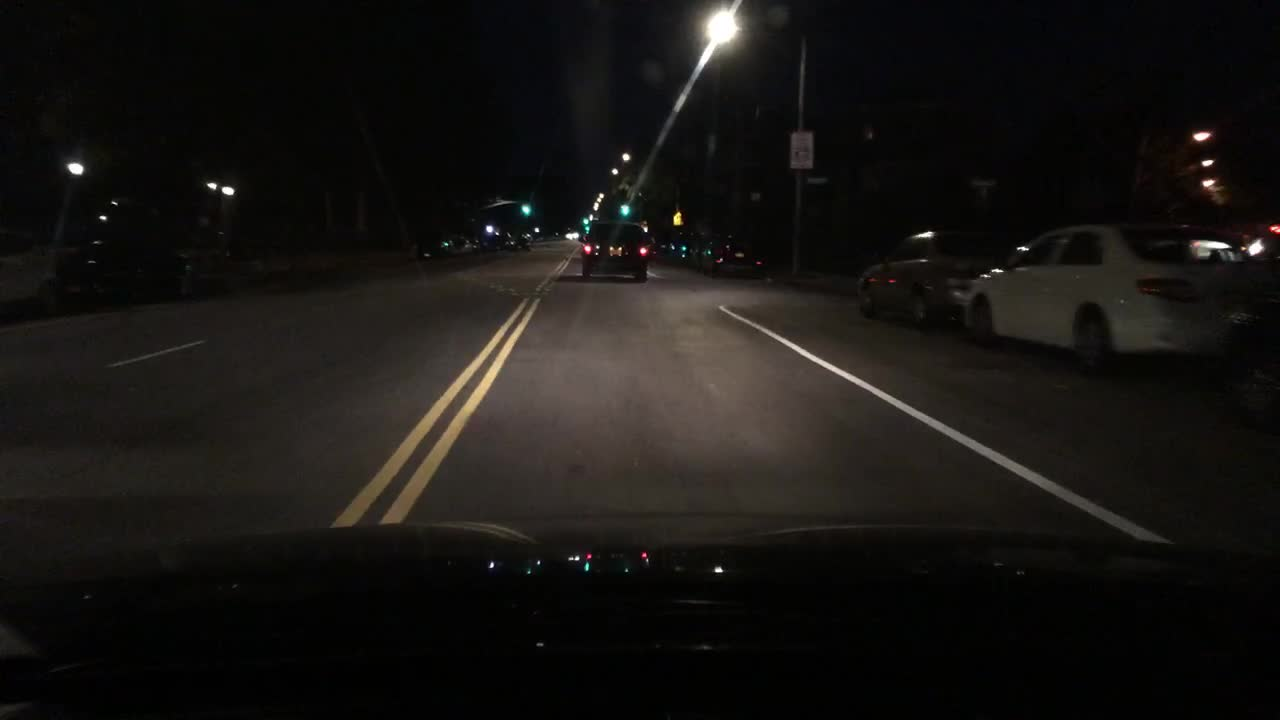car: (960, 224, 1261, 372), (857, 232, 978, 324), (1195, 297, 1277, 423), (580, 218, 651, 280), (696, 227, 776, 280), (662, 230, 692, 257), (480, 234, 511, 252), (507, 235, 531, 253), (415, 241, 439, 259), (646, 234, 660, 252), (565, 232, 587, 242), (470, 238, 488, 250), (451, 235, 467, 246), (439, 237, 447, 248)
traffic light: (521, 204, 530, 216), (620, 204, 629, 214), (582, 213, 588, 224)
traffic sign: (789, 130, 811, 168), (671, 213, 681, 225), (806, 177, 827, 182)
